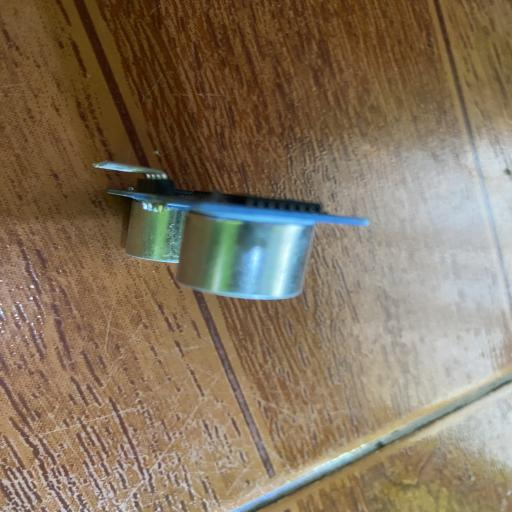Ultrasonic Sensor: (91, 160, 371, 302)
